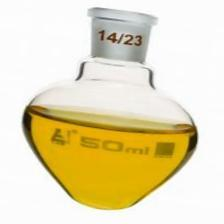Pear shaped flask: (3, 13, 200, 205)
